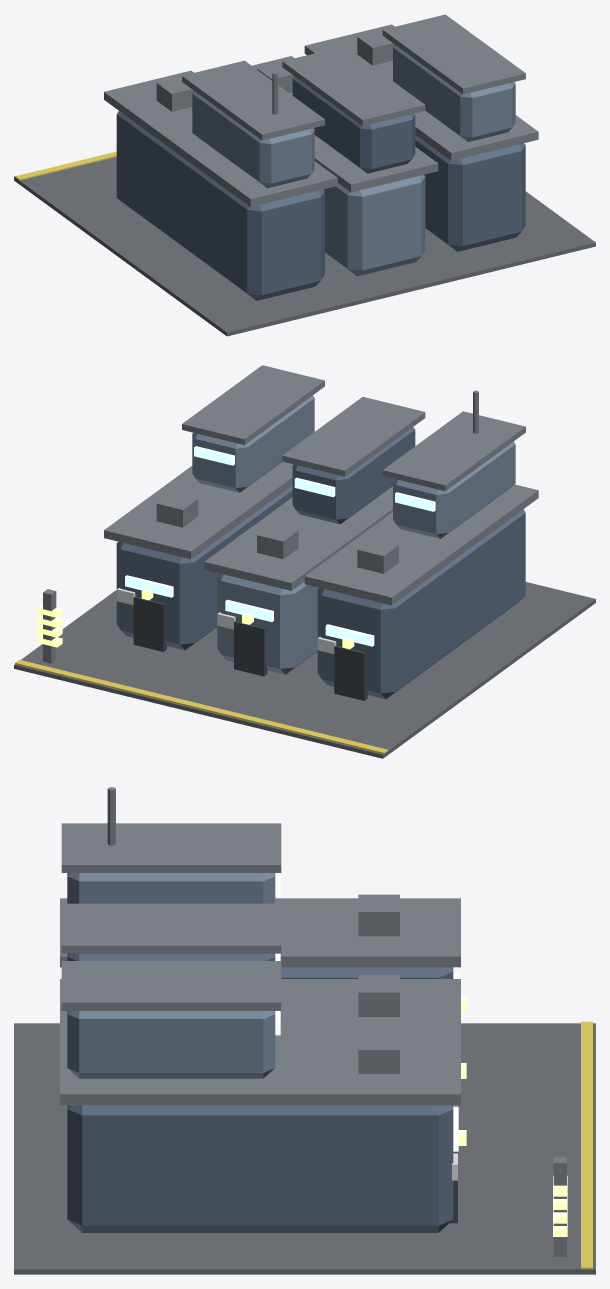
Rendered from zone_low_4_t4.glb.
The picture shows the model from 3 angles, top to bottom: view 1: azimuth 30°, elevation 25°; view 2: azimuth 150°, elevation 25°; view 3: azimuth 270°, elevation 25°; orthographic projection. The views are drawn at different scales.
Parts seen in each view (by area): view 1: zone_low_4_t4, detail; view 2: zone_low_4_t4, detail; view 3: zone_low_4_t4, detail.
Boxes of the visible parts, x1,y1,x2,y2 form: zone_low_4_t4: (14,14,595,336); detail: (15,30,394,180); zone_low_4_t4: (14,365,595,758); detail: (15,390,478,753); zone_low_4_t4: (14,823,595,1274); detail: (107,787,592,1269).
Size of the model in its own units: 19.6 by 11 by 19.6.
